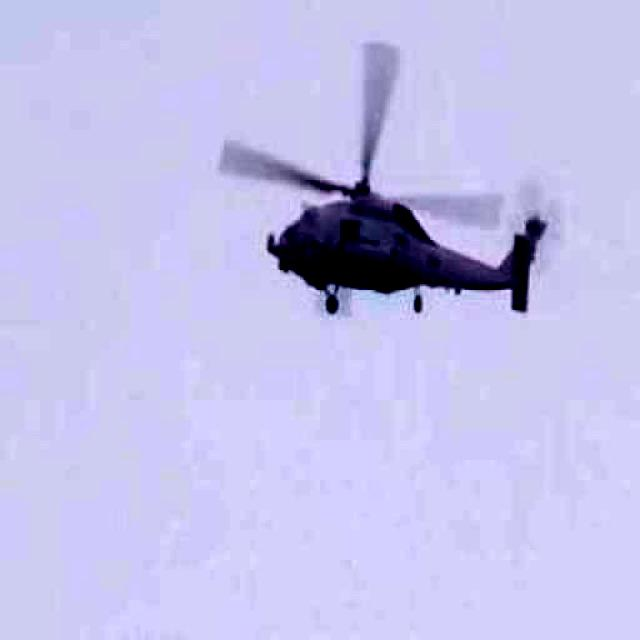drone: (194, 16, 590, 358)
